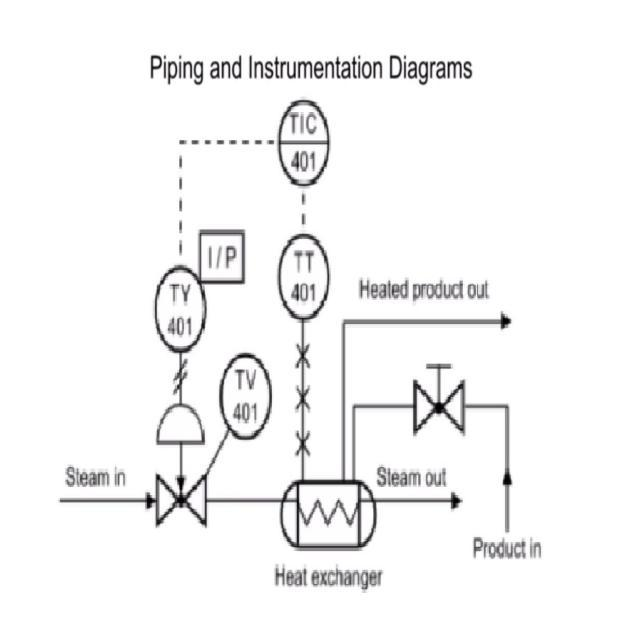Fail Closed Safe Position: (154, 402, 211, 536)
Hand Operated Globe Valve: (406, 348, 472, 448)
